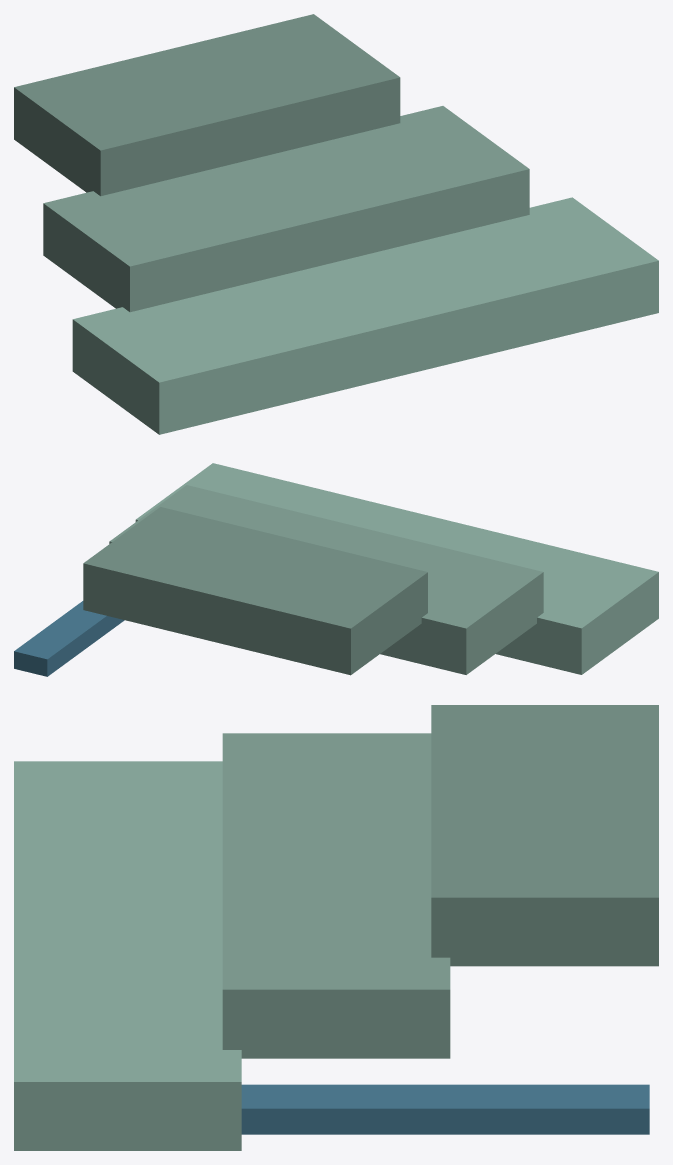
File: imp_ling_tian_ti_tian.glb
The picture shows the model from 3 angles, top to bottom: view 1: azimuth 30°, elevation 25°; view 2: azimuth 150°, elevation 25°; view 3: azimuth 270°, elevation 25°; orthographic projection. The views are drawn at different scales.
Visible parts, largest first — view 1: _MeshInstance3D_179, _MeshInstance3D_180, _MeshInstance3D_181; view 2: _MeshInstance3D_181, _MeshInstance3D_179, _MeshInstance3D_180, _MeshInstance3D_182; view 3: _MeshInstance3D_179, _MeshInstance3D_180, _MeshInstance3D_181, _MeshInstance3D_182.
Boxes of the visible parts, x1,y1,x2,y2 form: _MeshInstance3D_179: (72, 197, 658, 434); _MeshInstance3D_180: (43, 106, 529, 312); _MeshInstance3D_181: (14, 14, 400, 196); _MeshInstance3D_181: (83, 507, 427, 675); _MeshInstance3D_179: (135, 463, 658, 674); _MeshInstance3D_180: (109, 485, 543, 674); _MeshInstance3D_182: (14, 601, 124, 676); _MeshInstance3D_179: (14, 761, 241, 1150); _MeshInstance3D_180: (222, 733, 450, 1058); _MeshInstance3D_181: (431, 705, 658, 966); _MeshInstance3D_182: (241, 1084, 649, 1134).
Bounding box in the file's own units: 0.8 × 0.22 × 0.68.
